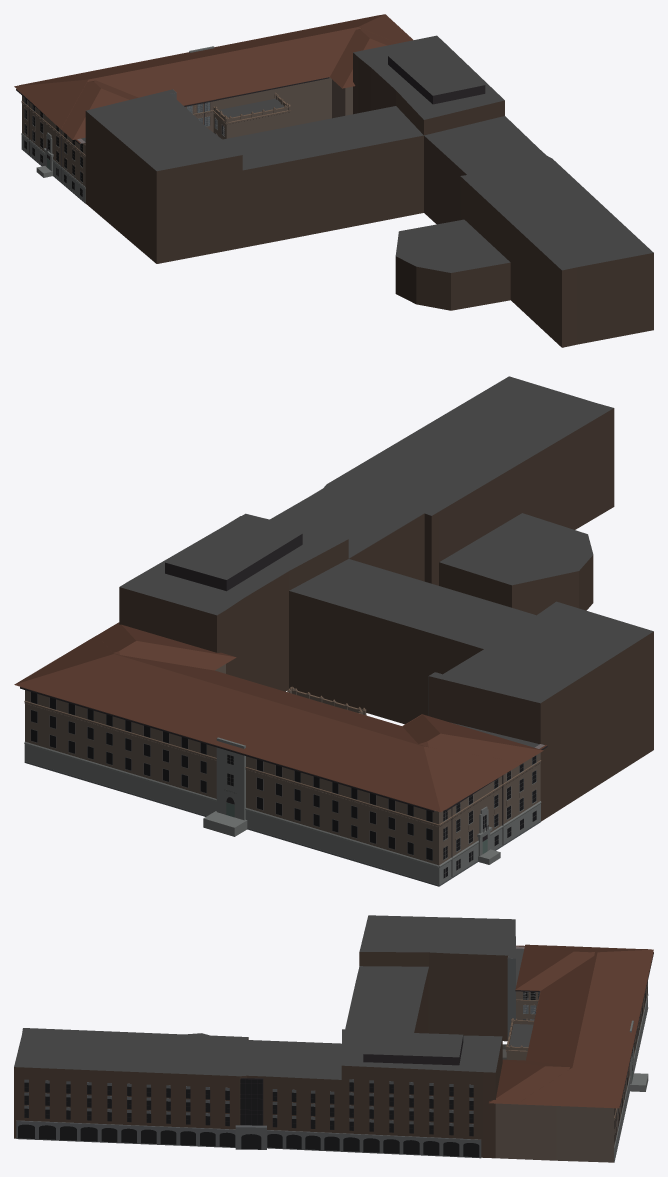
File: robert-a-welch-hall-look.glb
3 views of the same model, one above another, from view 1: azimuth 30°, elevation 25°; view 2: azimuth 150°, elevation 25°; view 3: azimuth 270°, elevation 25° (orthographic). The views are drawn at different scales.
Visible parts, largest first — view 1: n_wall_brick_modern, n_roof_flat_grey, n_roof_tile_red, n_wall_brick_buff, n_metal_dark, n_stone_base, n_glass_window, n_frame_white, n_trim_cast_tan; view 2: n_wall_brick_modern, n_roof_flat_grey, n_roof_tile_red, n_wall_brick_buff, n_stone_base, n_glass_window, n_metal_dark, n_frame_white, n_wall_brick_stack, n_trim_cast_tan, n_concrete_plinth; view 3: n_wall_brick_modern, n_roof_flat_grey, n_roof_tile_red, n_glass_window, n_wall_brick_buff, n_panel_pale, n_metal_dark, n_stone_base.
Boxes of the visible parts, box(x1,y1,x2,y2) form: n_wall_brick_modern: box(85, 53, 653, 347); n_roof_flat_grey: box(81, 35, 653, 272); n_roof_tile_red: box(14, 14, 413, 143); n_wall_brick_buff: box(21, 78, 352, 186); n_metal_dark: box(16, 56, 485, 181); n_stone_base: box(21, 46, 224, 202); n_glass_window: box(24, 98, 224, 196); n_frame_white: box(24, 97, 224, 195); n_trim_cast_tan: box(21, 92, 291, 155); n_wall_brick_modern: box(119, 408, 653, 821); n_roof_flat_grey: box(120, 376, 653, 747); n_roof_tile_red: box(14, 622, 547, 812); n_wall_brick_buff: box(24, 664, 540, 865); n_stone_base: box(24, 737, 541, 884); n_glass_window: box(31, 692, 536, 878); n_metal_dark: box(20, 534, 547, 876); n_frame_white: box(30, 692, 536, 878); n_wall_brick_stack: box(24, 702, 540, 848); n_trim_cast_tan: box(24, 686, 541, 825); n_concrete_plinth: box(24, 761, 540, 886); n_wall_brick_modern: box(14, 952, 507, 1158); n_roof_flat_grey: box(14, 915, 533, 1079); n_roof_tile_red: box(489, 944, 653, 1108); n_glass_window: box(18, 987, 647, 1157); n_wall_brick_buff: box(495, 981, 647, 1162); n_panel_pale: box(16, 956, 515, 1158); n_metal_dark: box(24, 952, 653, 1136); n_stone_base: box(523, 993, 648, 1161).
Size of the model in its own units: 101 by 26.9 by 166.
